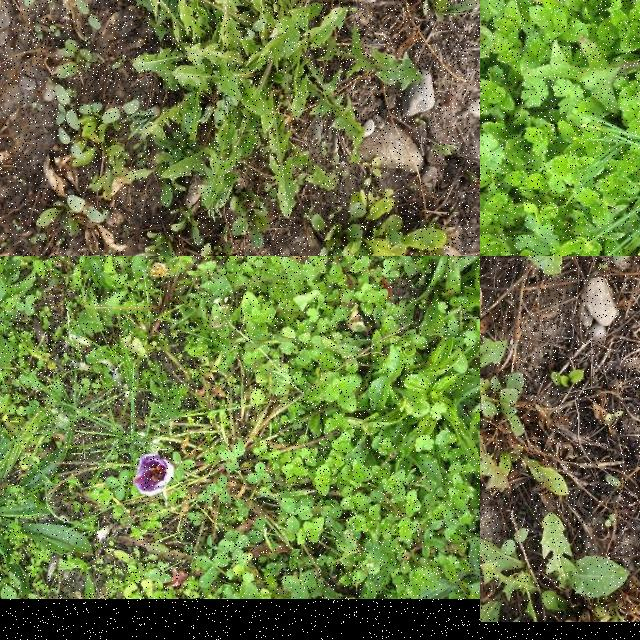flower: (132, 454, 174, 496)
